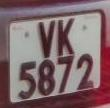2: (74, 50, 98, 93)
5: (15, 57, 39, 103)
7: (55, 53, 77, 97)
8: (36, 55, 59, 99)
K: (56, 14, 77, 59)
V: (35, 17, 58, 61)
